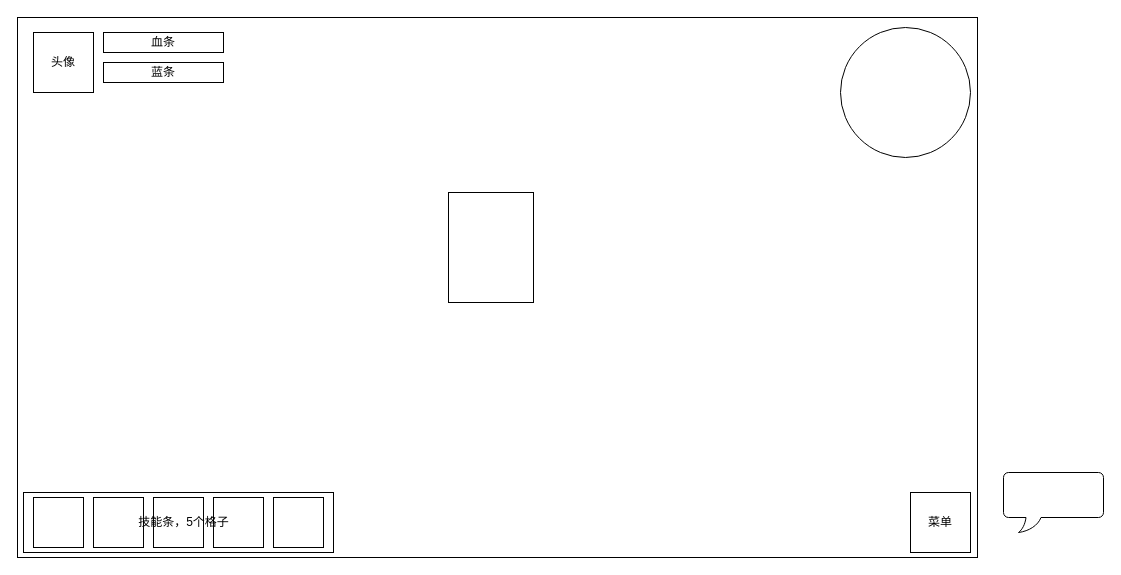
Image size: 1121x575. Some labels were removed from this diagram. The shapes that lost their labels are listed below. From the top down, each one's centre as x and y in pixels, then its label:
At (x=905, y=92): "小地图".
At (x=491, y=247): "人物大小 参照".
At (x=1053, y=502): "面板包含了角色、背包、技能等面板".
